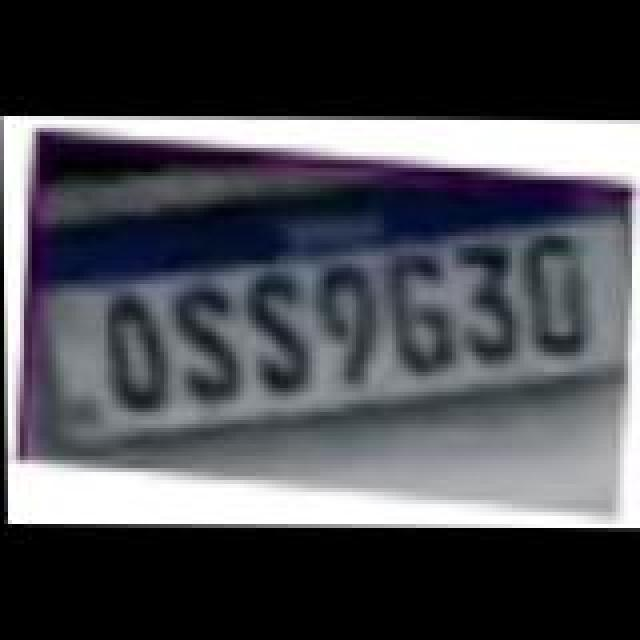3: (442, 244, 534, 368)
9: (306, 264, 398, 388)
D: (508, 238, 604, 362)
G: (378, 252, 470, 376)
O: (92, 294, 180, 418)
S: (234, 274, 326, 402), (162, 284, 254, 408)
